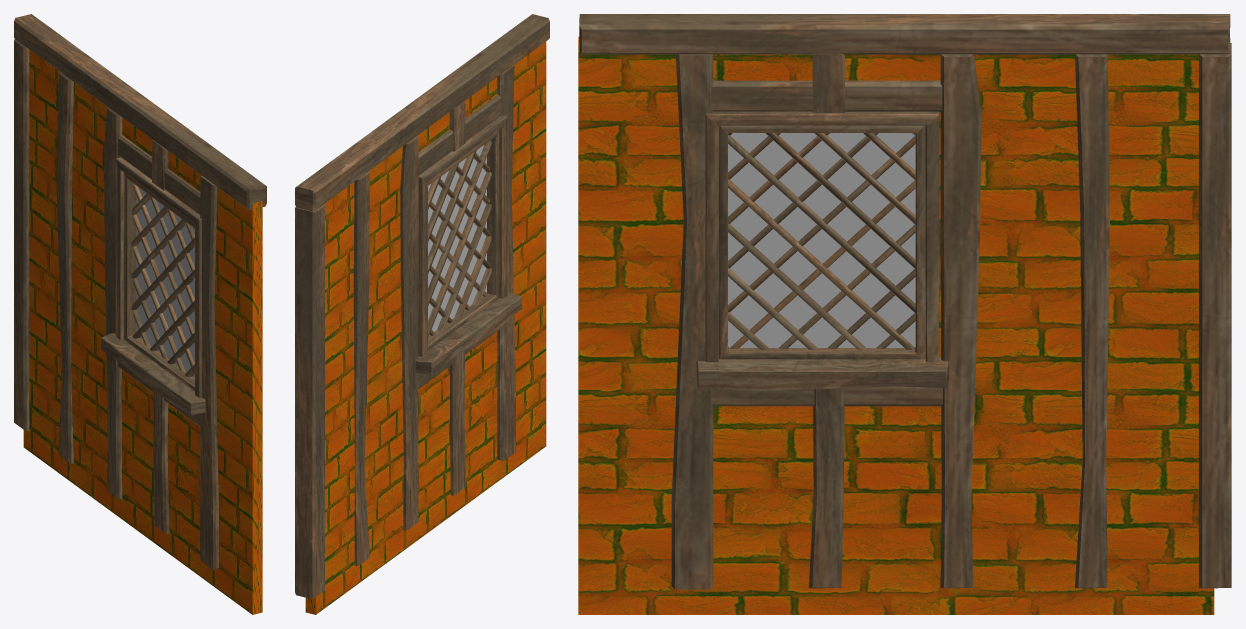
The model's file is SM_wall_13.fbx.
3 renders of one model, left to right at view 1: azimuth 30°, elevation 25°; view 2: azimuth 150°, elevation 25°; view 3: azimuth 270°, elevation 25°, orthographic. The views are drawn at different scales.
Parts seen in each view (by area): view 1: SM_wall_13_LOD0; view 2: SM_wall_13_LOD0; view 3: SM_wall_13_LOD0.
Part boxes in pixels (left/top/right/bottom): SM_wall_13_LOD0: left=14, top=14, right=266, bottom=614; SM_wall_13_LOD0: left=295, top=14, right=549, bottom=614; SM_wall_13_LOD0: left=578, top=14, right=1231, bottom=614.
Size of the model in its own units: 47.99 by 400 by 400.
